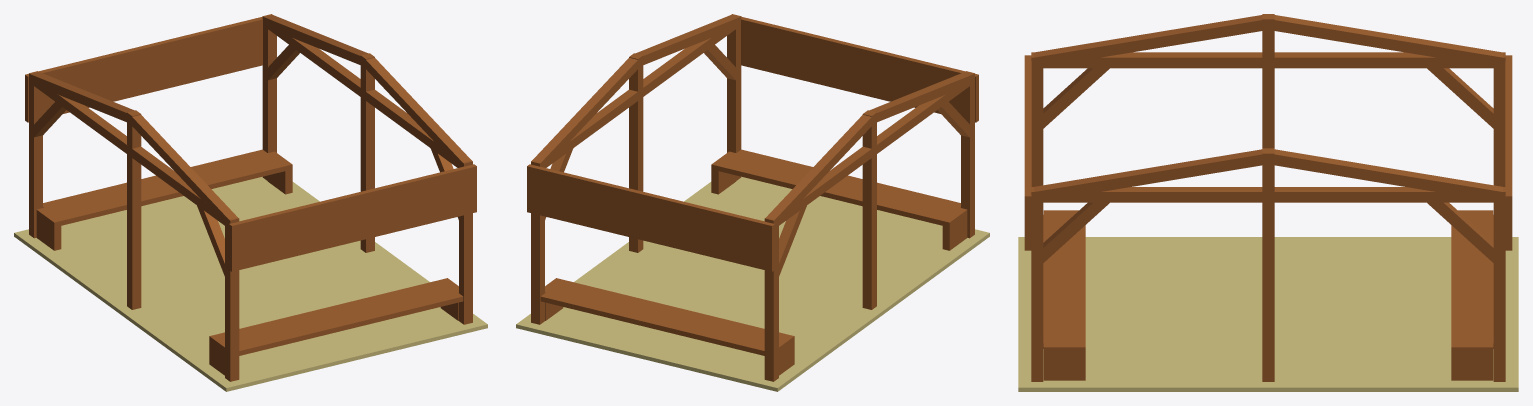
The model's file is Park2.fbx.
3 views of the same model, side by side, from view 1: azimuth 30°, elevation 25°; view 2: azimuth 150°, elevation 25°; view 3: azimuth 270°, elevation 25° (orthographic). The views are drawn at different scales.
Parts seen in each view (by area): view 1: Cube.019; view 2: Cube.019; view 3: Cube.019.
Boxes of the visible parts, x1=… form: Cube.019: x1=14, y1=14, x2=487, y2=391; Cube.019: x1=516, y1=14, x2=989, y2=391; Cube.019: x1=1018, y1=14, x2=1518, y2=391.
Size of the model in its own units: 569 by 411 by 799.
